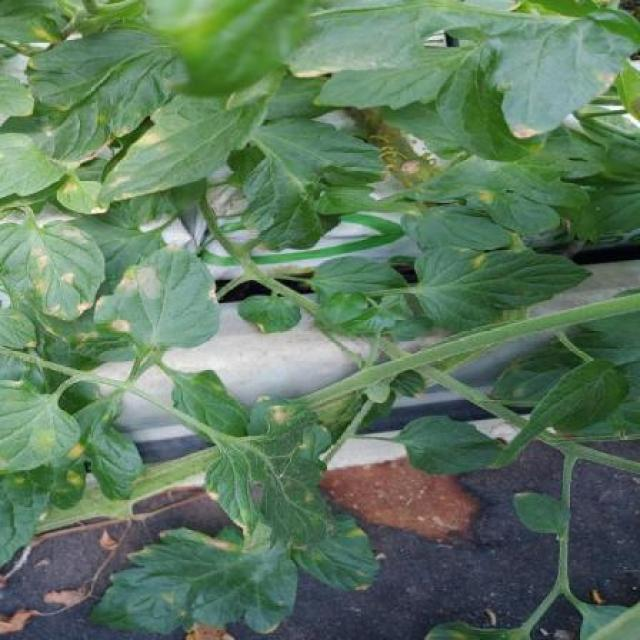Leaf Mold: (99, 71, 285, 202), (83, 526, 298, 636), (200, 404, 340, 550), (94, 243, 222, 350), (0, 219, 107, 322), (1, 380, 82, 480)
